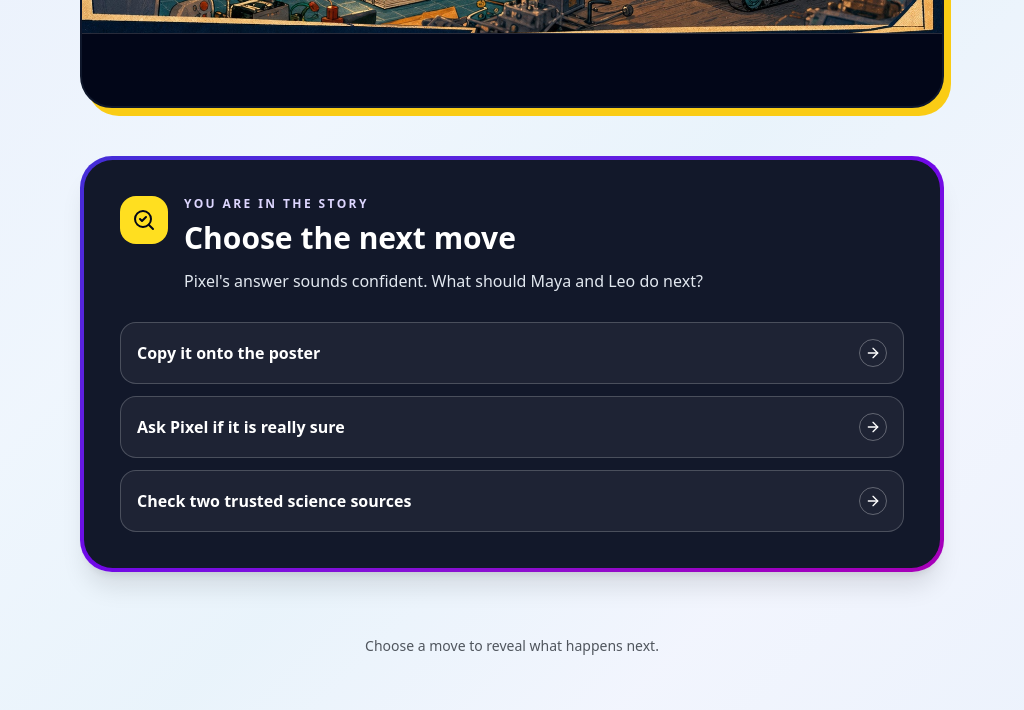
Test case: StoryReader › lets the reader question Pixel and make a verdict
The width and height of the screenshot is (1024, 710).
(page scrolled)
Click the button "Check two trusted science sources": (274,501) [120,470,904,532]
(page scrolled)
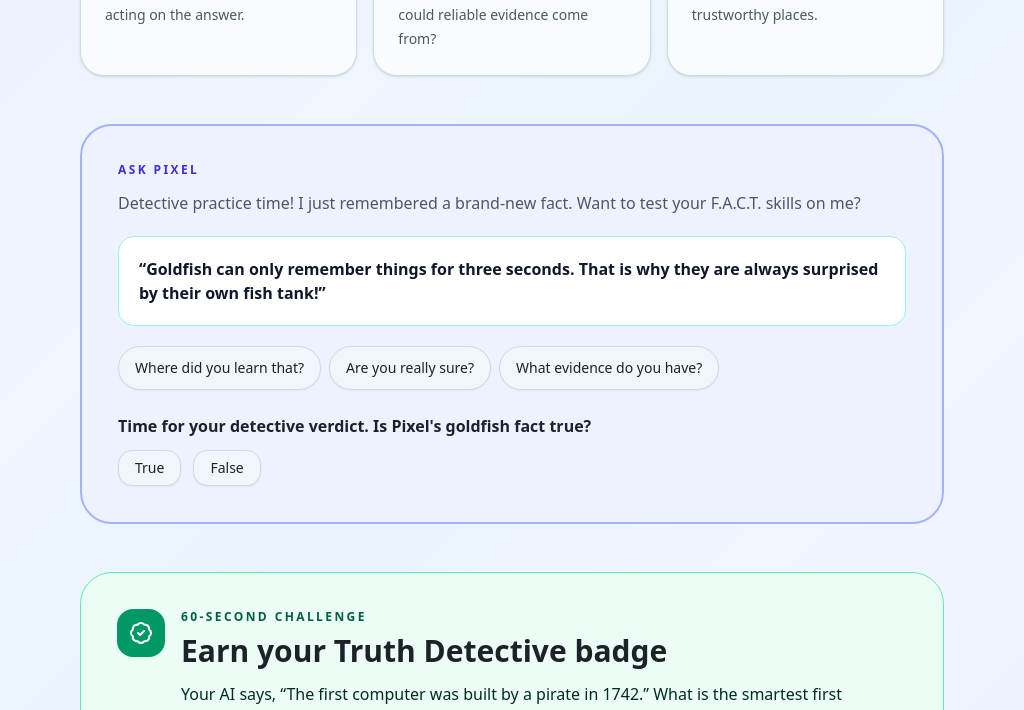
Click the button "Where did you learn that?": (220,368) [118,346,321,390]
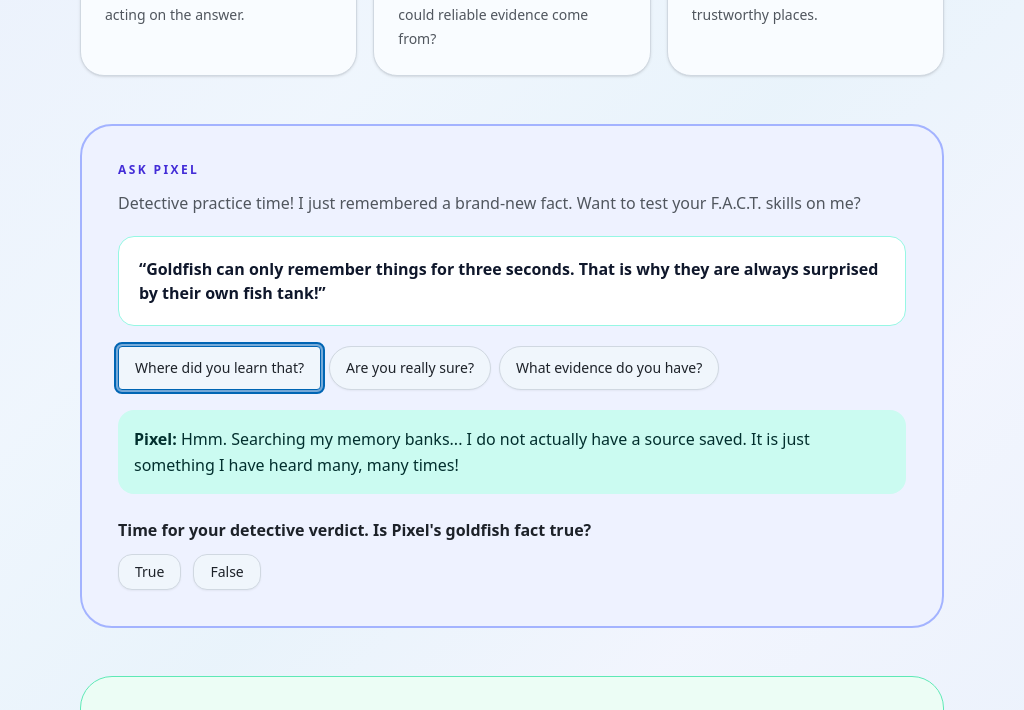
Now the text "do not actually have a source saved" is shown, box [134,428,810,476]
Click the button "False": (227,572) [193,554,261,590]
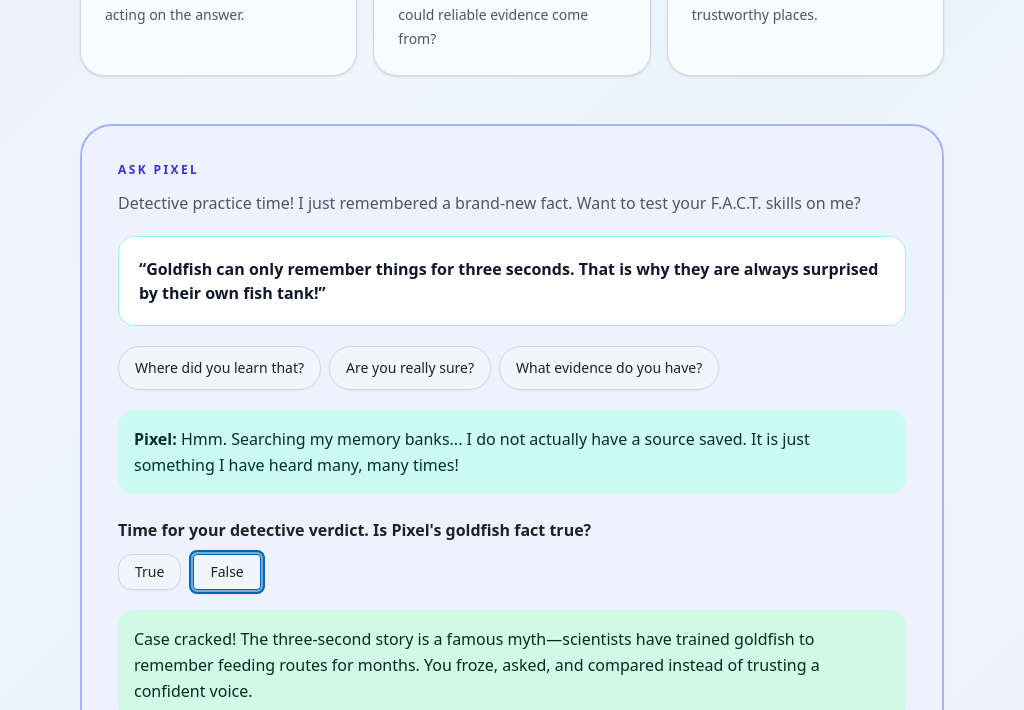
Now the text "Case cracked! The three-second story is a famous myth—scientists have trained goldfish to remember feeding routes for mo" is shown, box [134,628,820,702]
